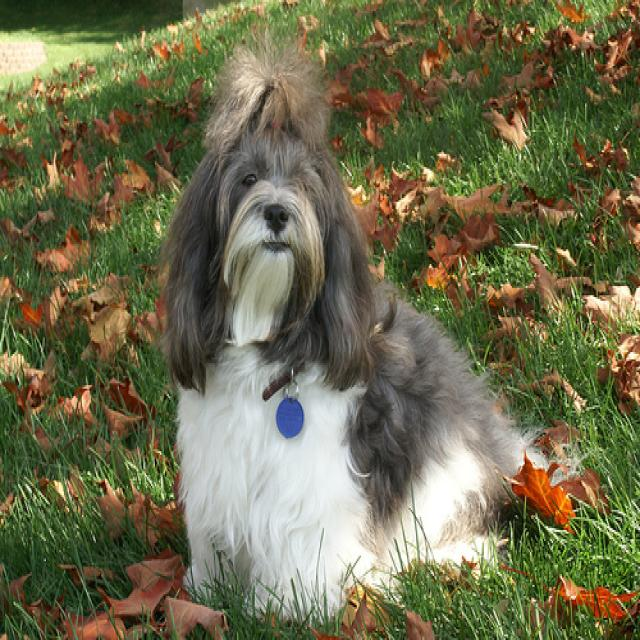dog-havanese: (157, 39, 526, 611)
